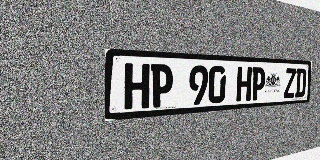0: (208, 66, 226, 104)
9: (189, 65, 209, 105)
D: (295, 68, 307, 97)
H: (124, 63, 150, 110), (236, 67, 252, 102)
P: (150, 64, 173, 108), (251, 67, 266, 101)
Z: (284, 68, 296, 98)
